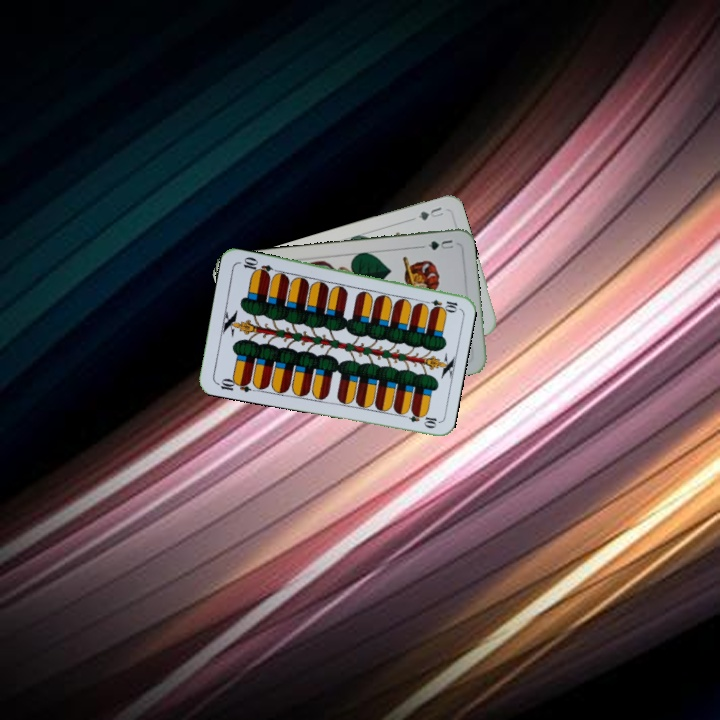E10: (213, 374, 253, 395), (419, 295, 460, 313)
GU: (414, 203, 446, 223), (424, 236, 456, 253)
